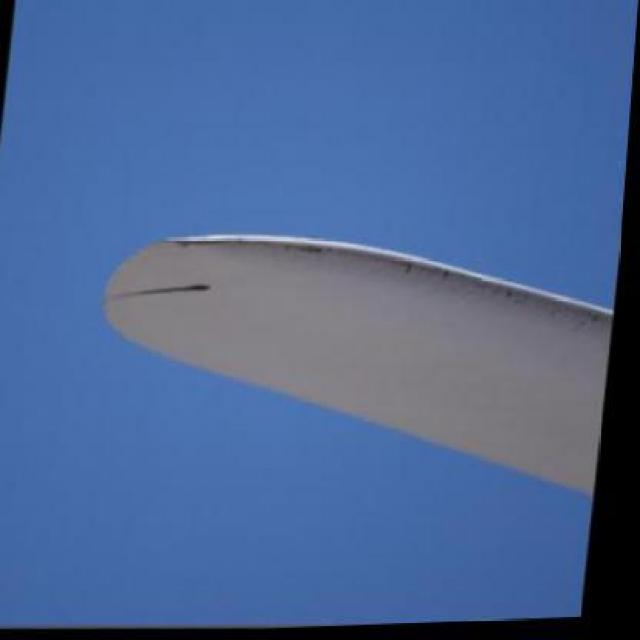Burn Mark: (114, 279, 217, 304)
EROSION: (179, 216, 481, 272), (443, 272, 613, 327)
